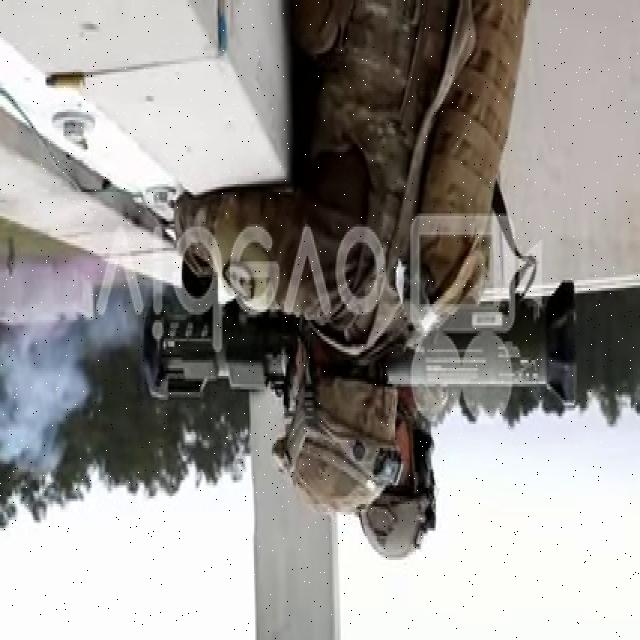bazooka: (141, 279, 583, 419)
